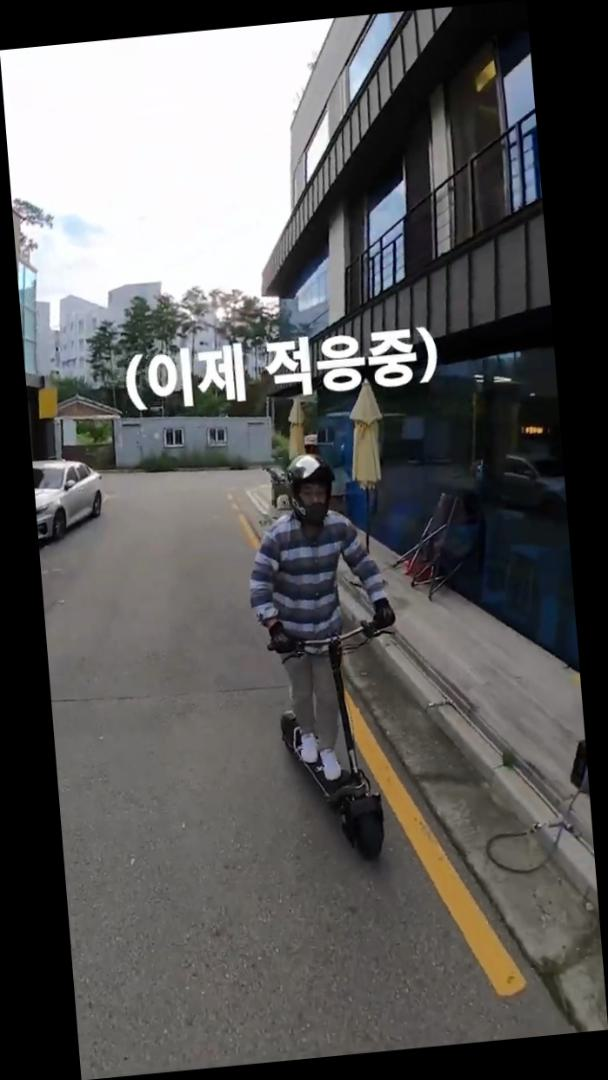helmet: (236, 444, 416, 876)
